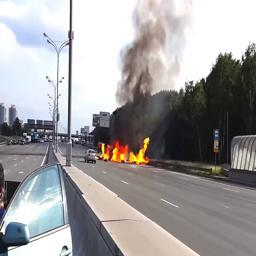fire: (99, 136, 151, 164)
